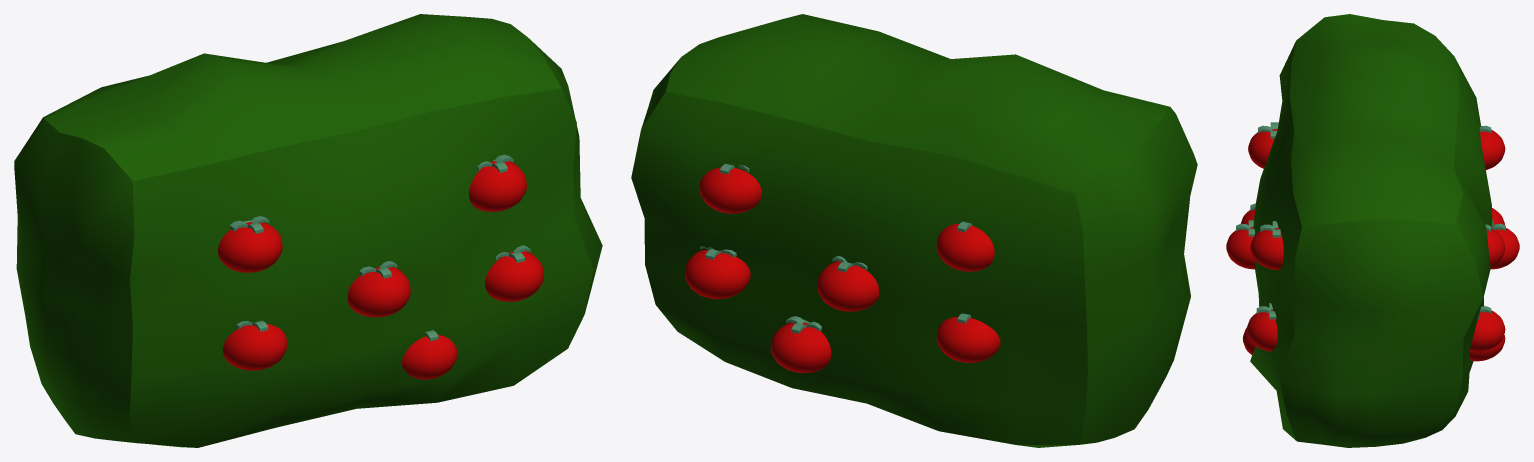
File: Tomato_Bush.fbx
3 renders of one model, left to right at view 1: azimuth 30°, elevation 25°; view 2: azimuth 150°, elevation 25°; view 3: azimuth 270°, elevation 25°, orthographic. The views are drawn at different scales.
Parts seen in each view (by area): view 1: Tomato_Bush; view 2: Tomato_Bush; view 3: Tomato_Bush.
Boxes of the visible parts, x1,y1,x2,y2 form: Tomato_Bush: (14, 14, 602, 447); Tomato_Bush: (631, 14, 1197, 447); Tomato_Bush: (1226, 14, 1519, 447).
Bounding box in the file's own units: 5.73 × 3.72 × 3.31.
